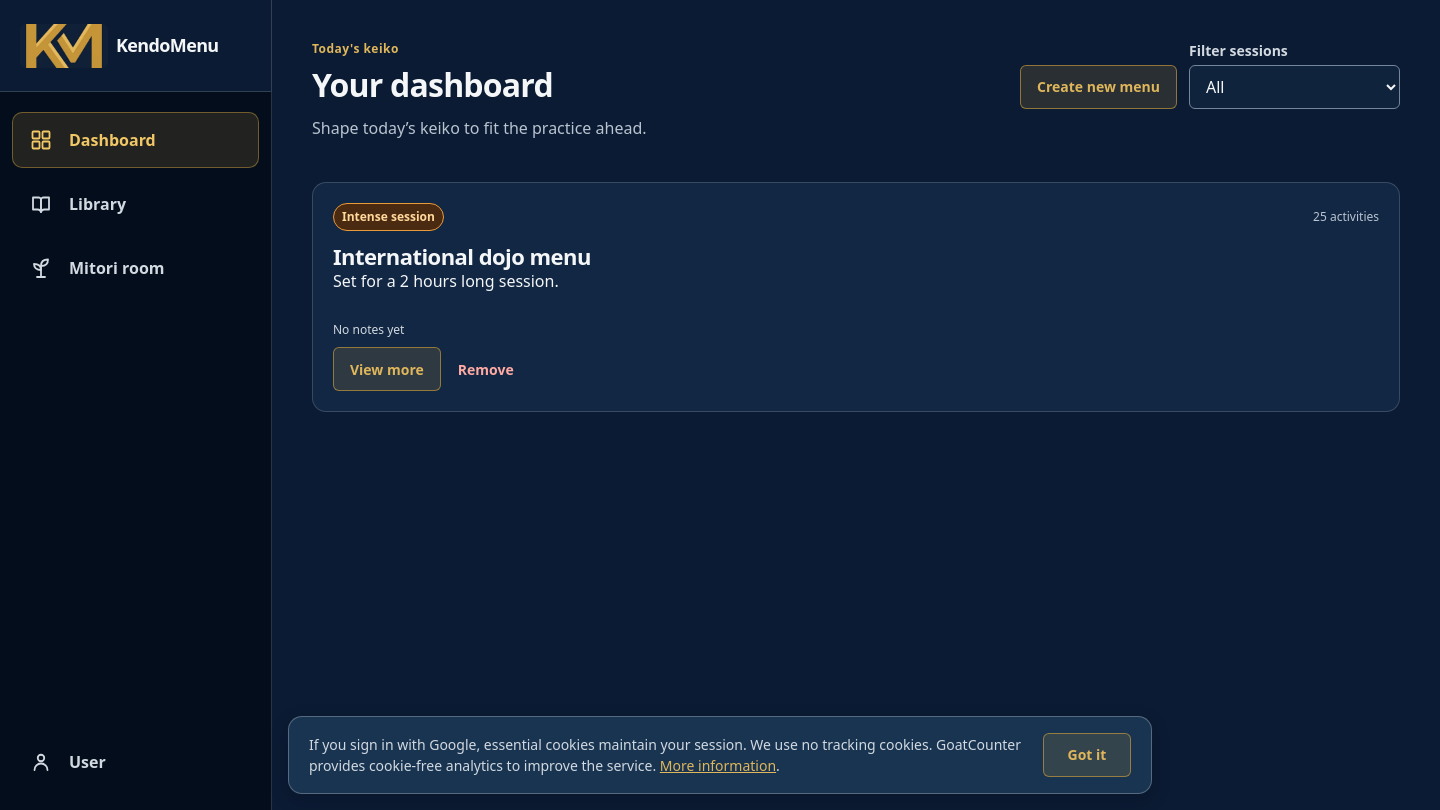
Scenario: KendoMenu application flows › shows the populated-dashboard create action and navigates to the builder
Click the link "Create new menu". click: (1098, 87)
box: [1020, 65, 1177, 109]
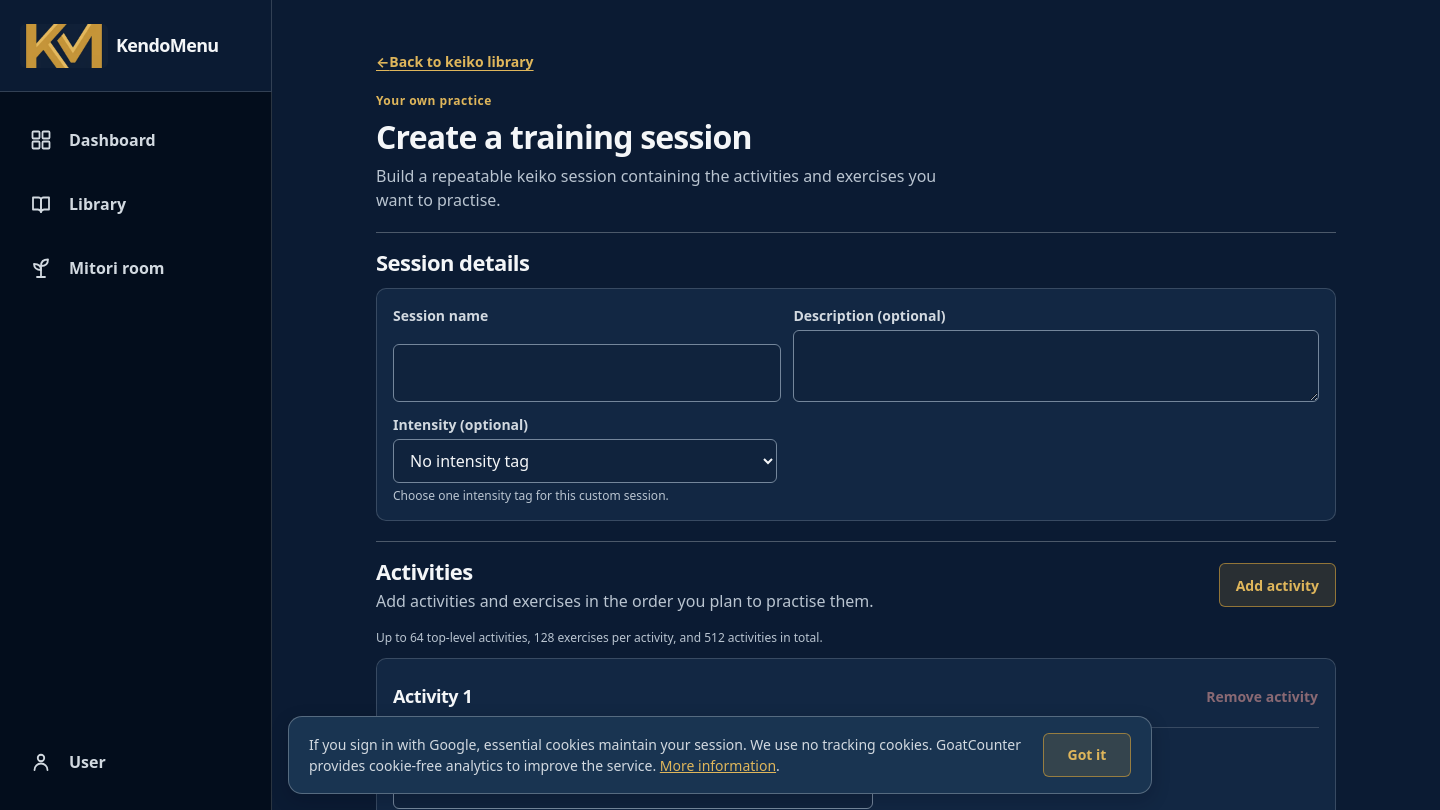
Now the heading "Create a training session" is shown, box [376, 115, 752, 158]
